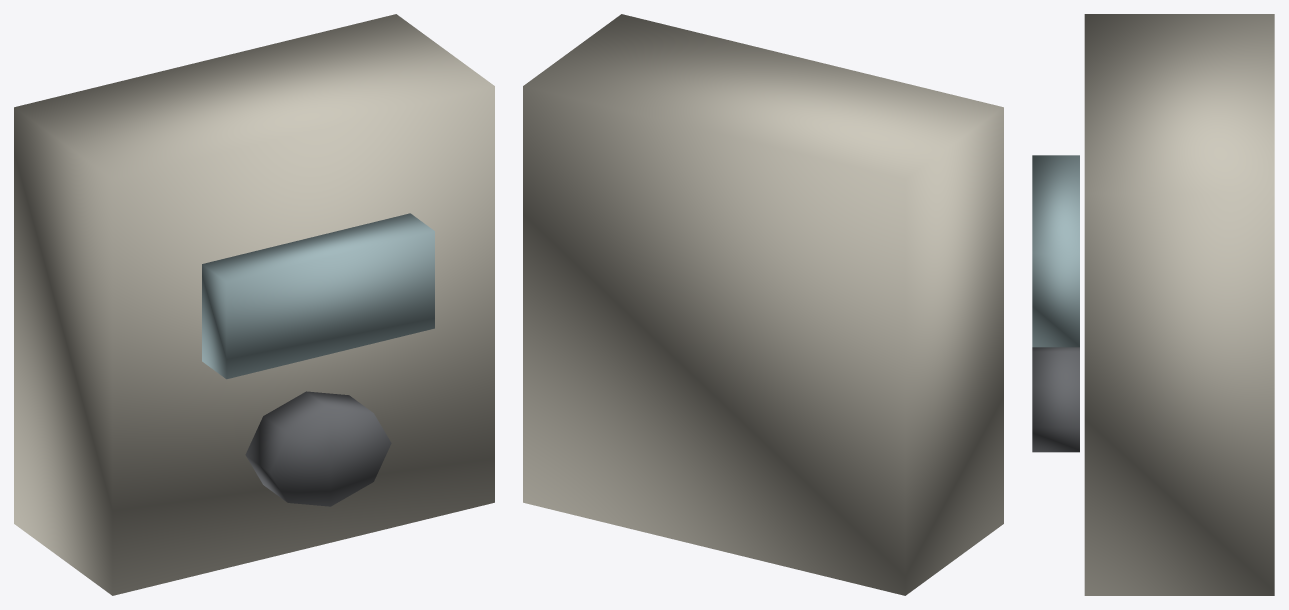
File: wall_thermostat__squat.glb
The picture shows the model from 3 angles, left to right: view 1: azimuth 30°, elevation 25°; view 2: azimuth 150°, elevation 25°; view 3: azimuth 270°, elevation 25°; orthographic projection. The views are drawn at different scales.
Visible parts, largest first — view 1: world; view 2: world; view 3: world.
Part boxes in pixels (x1,y1,x2,y2): world: [14, 14, 494, 595]; world: [523, 14, 1003, 595]; world: [1032, 14, 1274, 595].
Size of the model in its own units: 0.242 by 0.252 by 0.1377.
